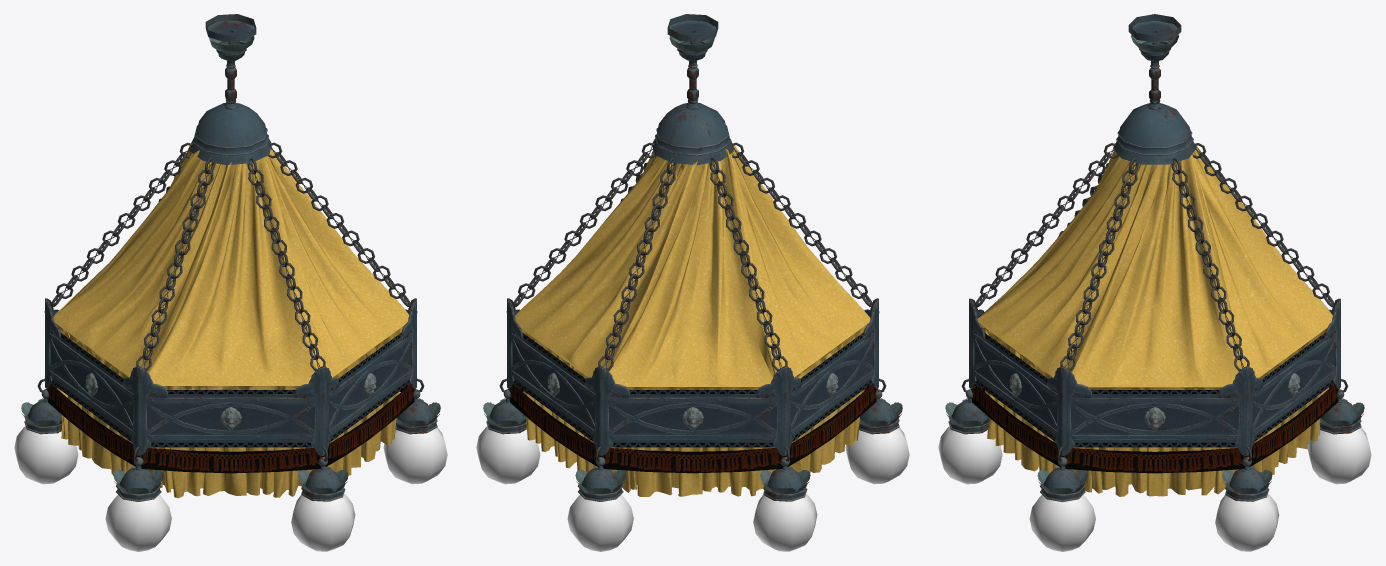
File: SM_Lamp03C.fbx
3 views of the same model, side by side, from view 1: azimuth 30°, elevation 25°; view 2: azimuth 150°, elevation 25°; view 3: azimuth 270°, elevation 25° (orthographic).
Visible parts, largest first — view 1: SM_Lamp03C; view 2: SM_Lamp03C; view 3: SM_Lamp03C.
Part boxes in pixels (x1,y1,x2,y2): SM_Lamp03C: (14,14,447,551); SM_Lamp03C: (476,14,909,551); SM_Lamp03C: (938,14,1371,551).
Size of the model in its own units: 115 by 129 by 150.
